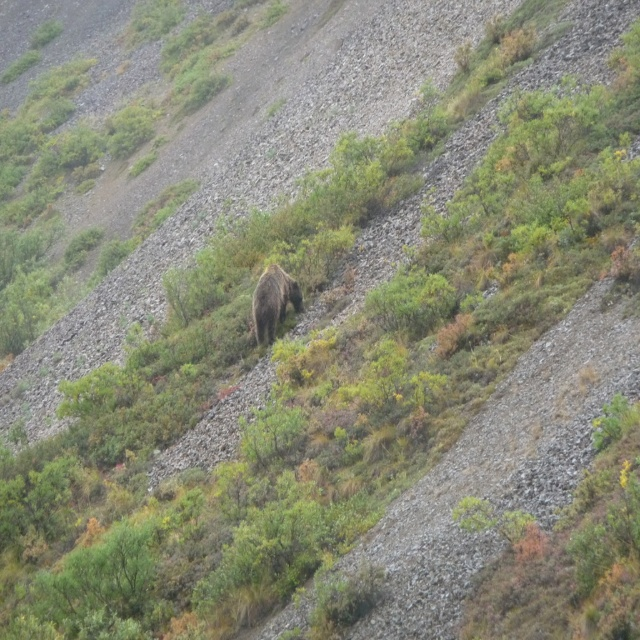Brown bear: (252, 258, 305, 349)
